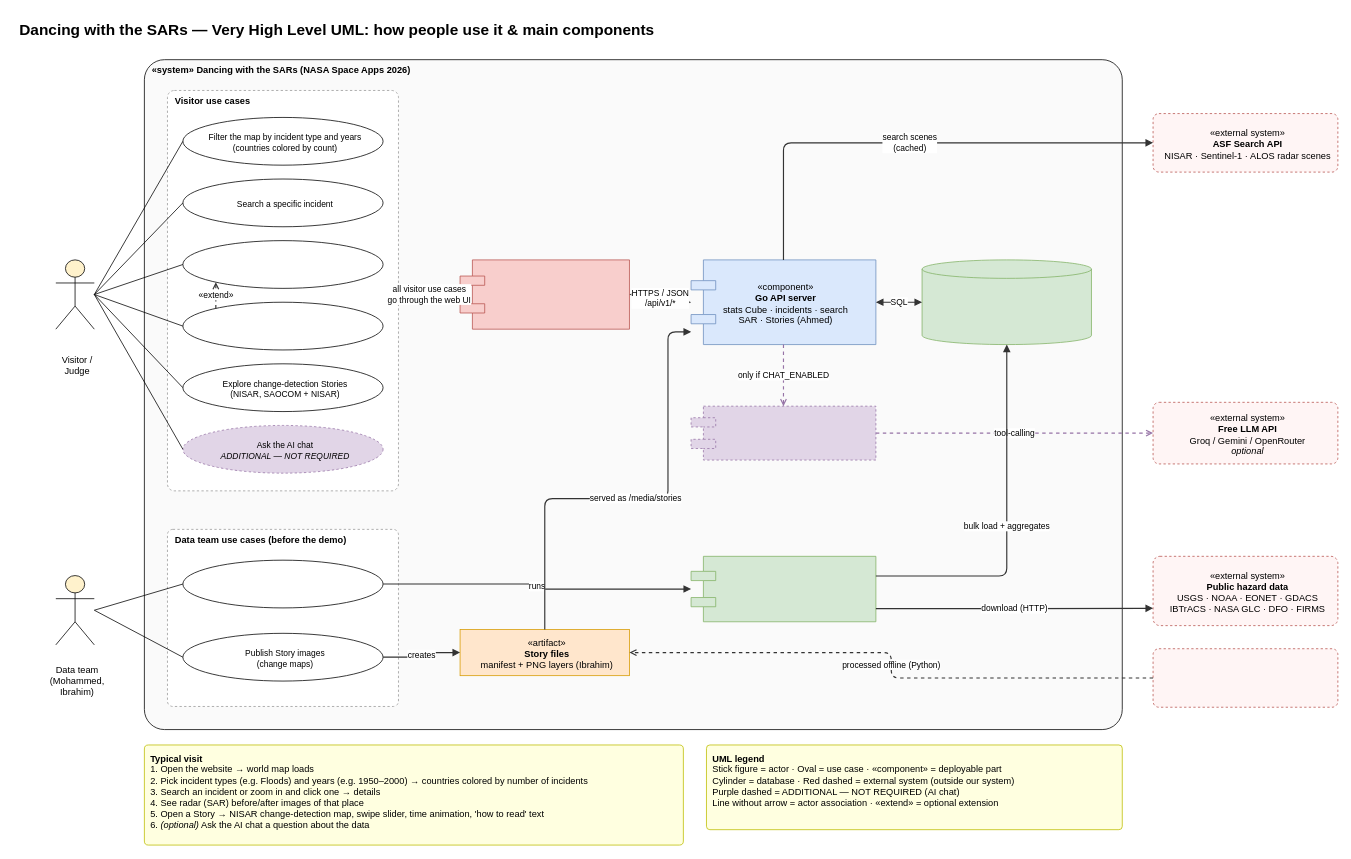
Image size: 1351x859. Some labels were removed from this diagram. The shapes that lost their labels are listed below. From the top down, each one's centre as x and y in pixels, then its label:
point (282, 264): View incident details
point (544, 294): «component» Web Frontend React + MapLibre (Abbas)
point (1006, 302): «database» PostgreSQL + PostGIS incidents · counts · SAR cache
point (282, 325): Compare SAR before / after (NISAR, Sentinel-1, ALOS)
point (783, 432): «component» AI Chat module ADDITIONAL — NOT REQUIRED
point (282, 583): Load and refresh hazard data (ingest → snapshot)
point (783, 589): «component» Go Ingest CLI fetch → normalize → load (Mohammed)
point (1245, 677): «external system» Radar imagery for Stories NISAR (ASF / HyP3) · SAOCOM (CONAE)
